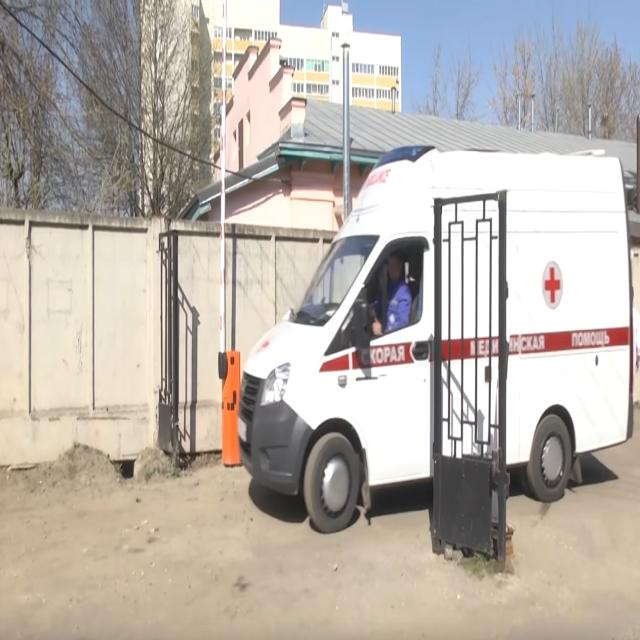ambulance: (238, 145, 634, 536)
